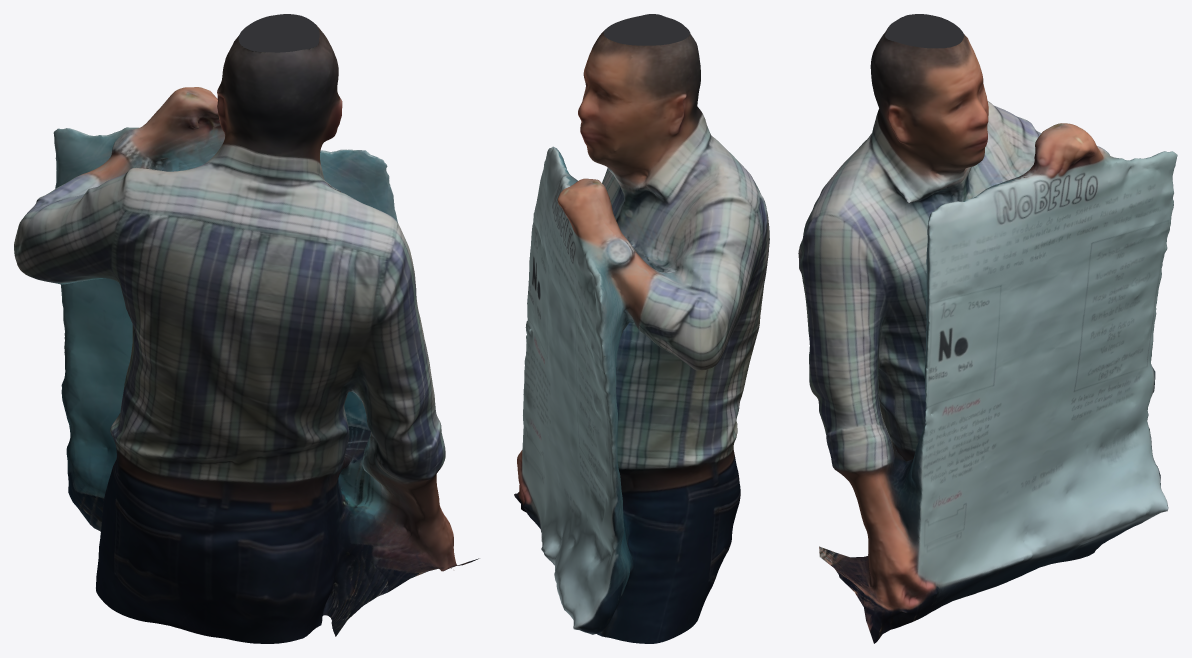
The model's file is nobelio.glb.
3 views of the same model, side by side, from view 1: azimuth 30°, elevation 25°; view 2: azimuth 150°, elevation 25°; view 3: azimuth 270°, elevation 25° (orthographic). The views are drawn at different scales.
Parts seen in each view (by area): view 1: 3DModel; view 2: 3DModel; view 3: 3DModel.
Boxes of the visible parts, bbox=[...] form: 3DModel: bbox=[14, 14, 479, 643]; 3DModel: bbox=[514, 14, 769, 643]; 3DModel: bbox=[798, 14, 1177, 643].
Bounding box in the file's own units: 0.6216 × 1.02 × 0.6492.
1 material, 1 textured.
